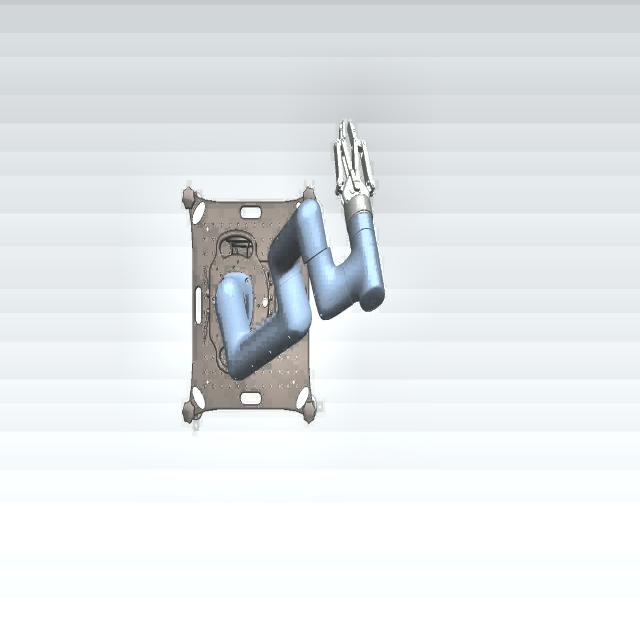robot: (210, 118, 384, 398)
